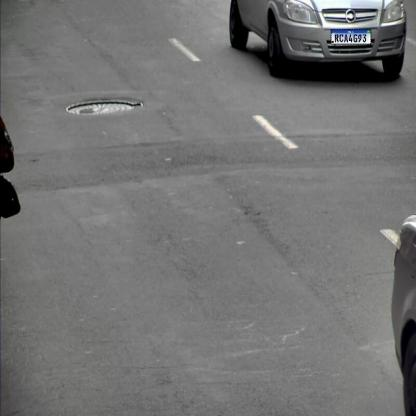PlacaM: (331, 29, 371, 44)
